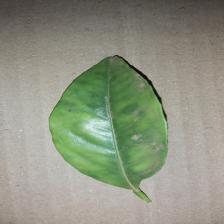greening: (44, 54, 172, 204)
